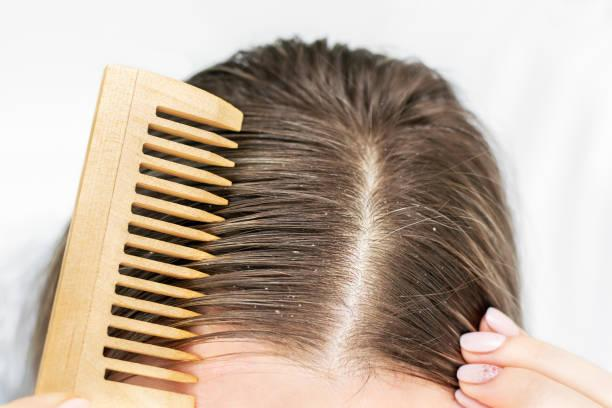dandruff: (279, 176, 340, 220), (246, 291, 326, 322), (399, 263, 452, 299), (282, 240, 329, 278), (421, 218, 445, 241)
